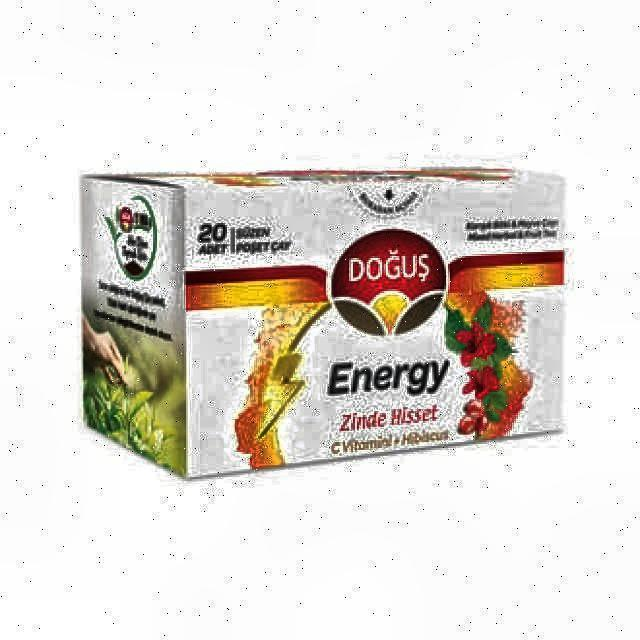cardboard: (76, 142, 570, 482)
